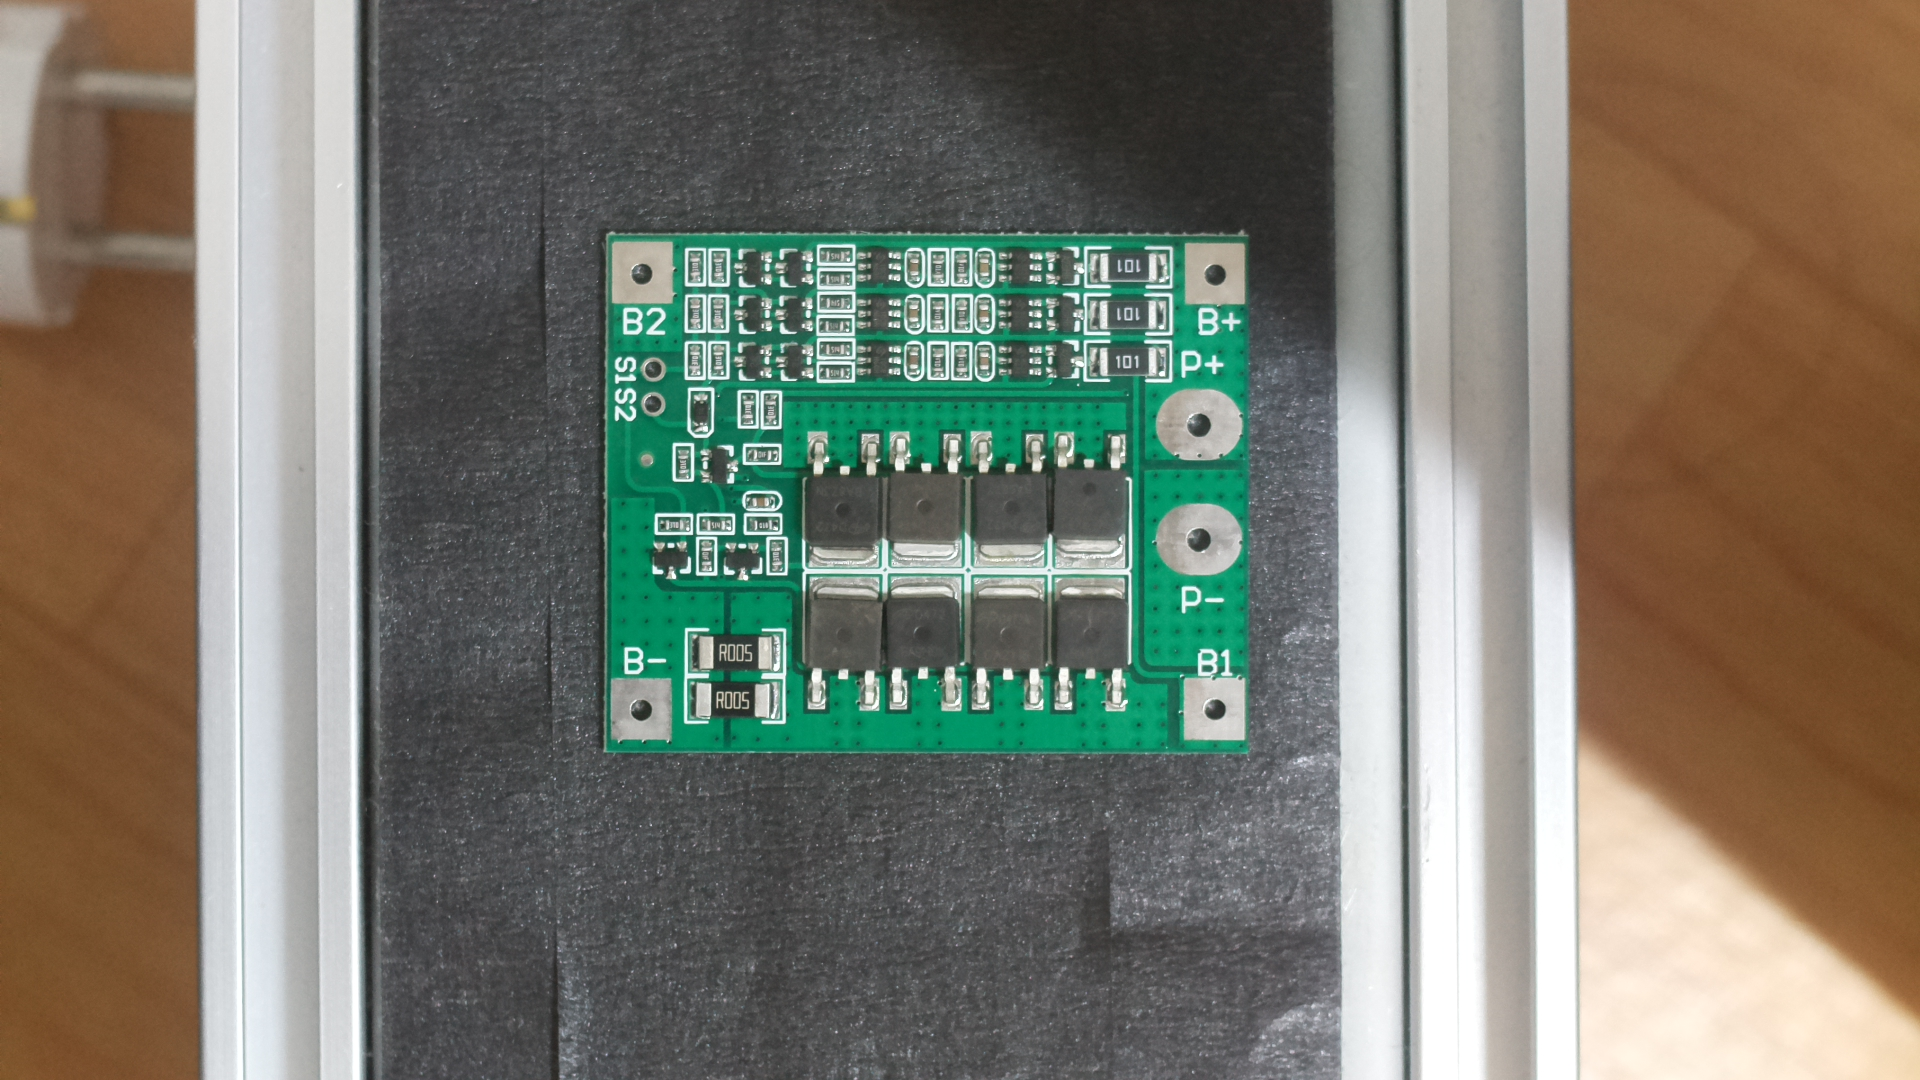C_Normal: (583, 206, 1263, 789)
